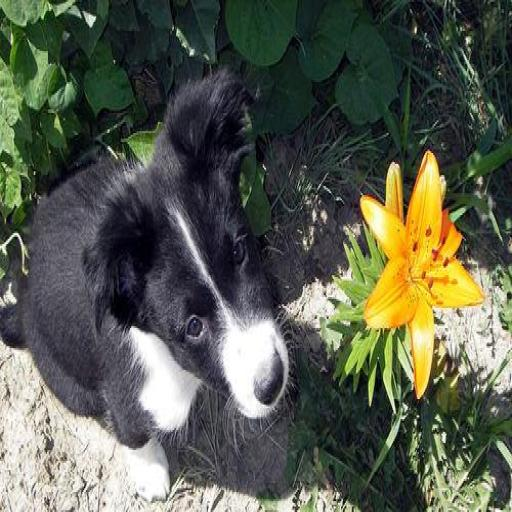dog_face: (95, 74, 284, 425)
